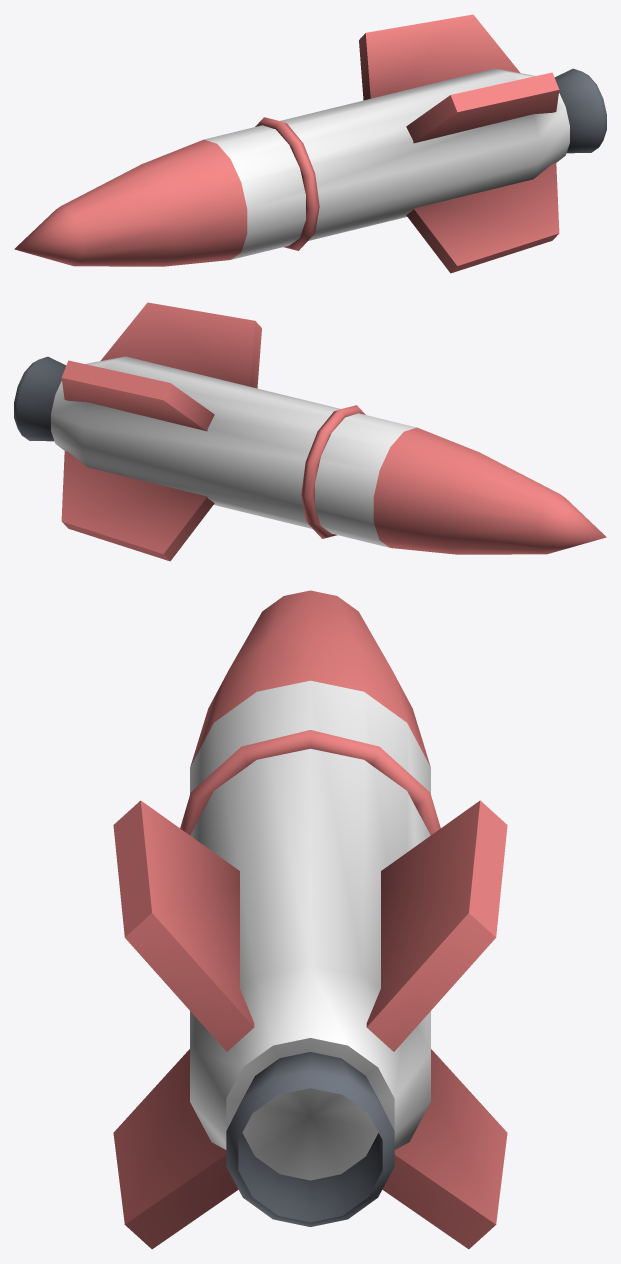
Rendered from HeatSeeker.fbx.
3 renders of one model, top to bottom at view 1: azimuth 30°, elevation 25°; view 2: azimuth 150°, elevation 25°; view 3: azimuth 270°, elevation 25°, orthographic. The views are drawn at different scales.
Visible parts, largest first — view 1: rocket_seeker; view 2: rocket_seeker; view 3: rocket_seeker.
Part boxes in pixels (x1,y1,x2,y2): rocket_seeker: (14, 14, 606, 273); rocket_seeker: (14, 302, 606, 561); rocket_seeker: (113, 590, 507, 1249).
Size of the model in its own units: 0.86 by 0.2553 by 0.2553.
